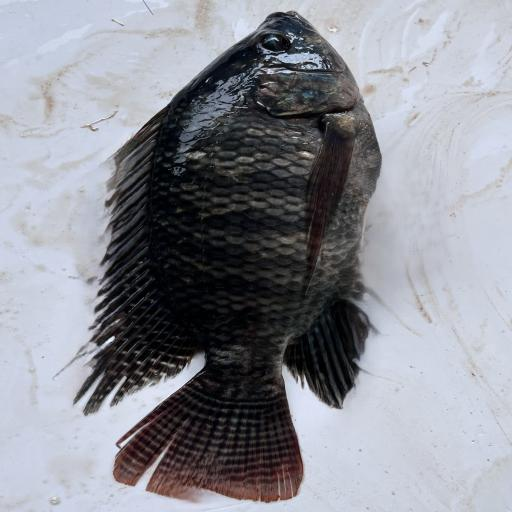Tilapia: (72, 11, 382, 503)
